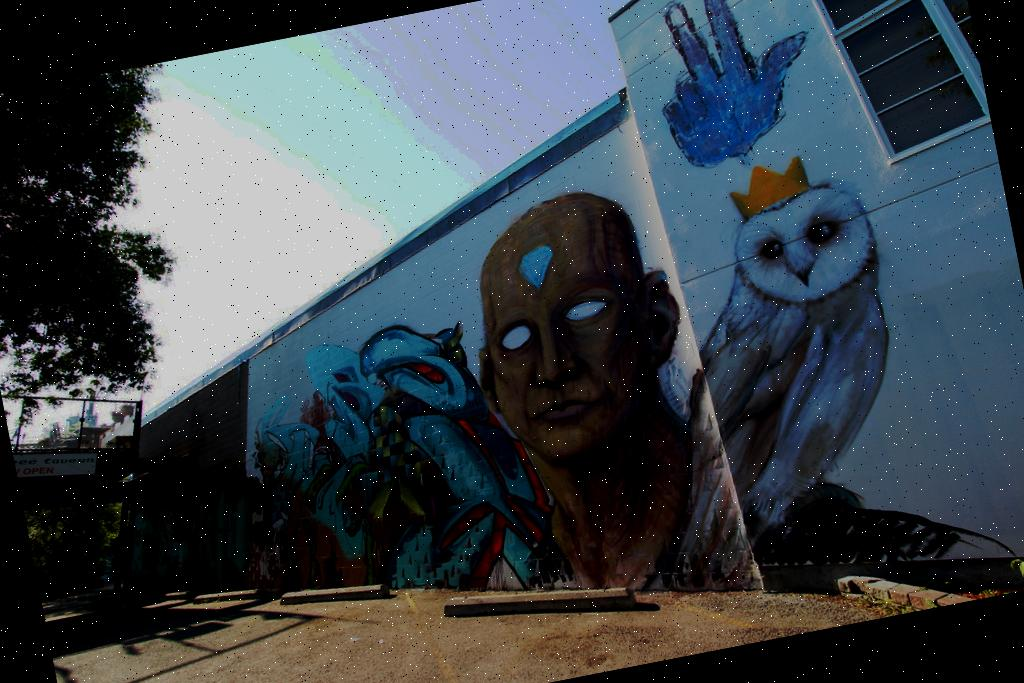Owl: (609, 172, 937, 594)
